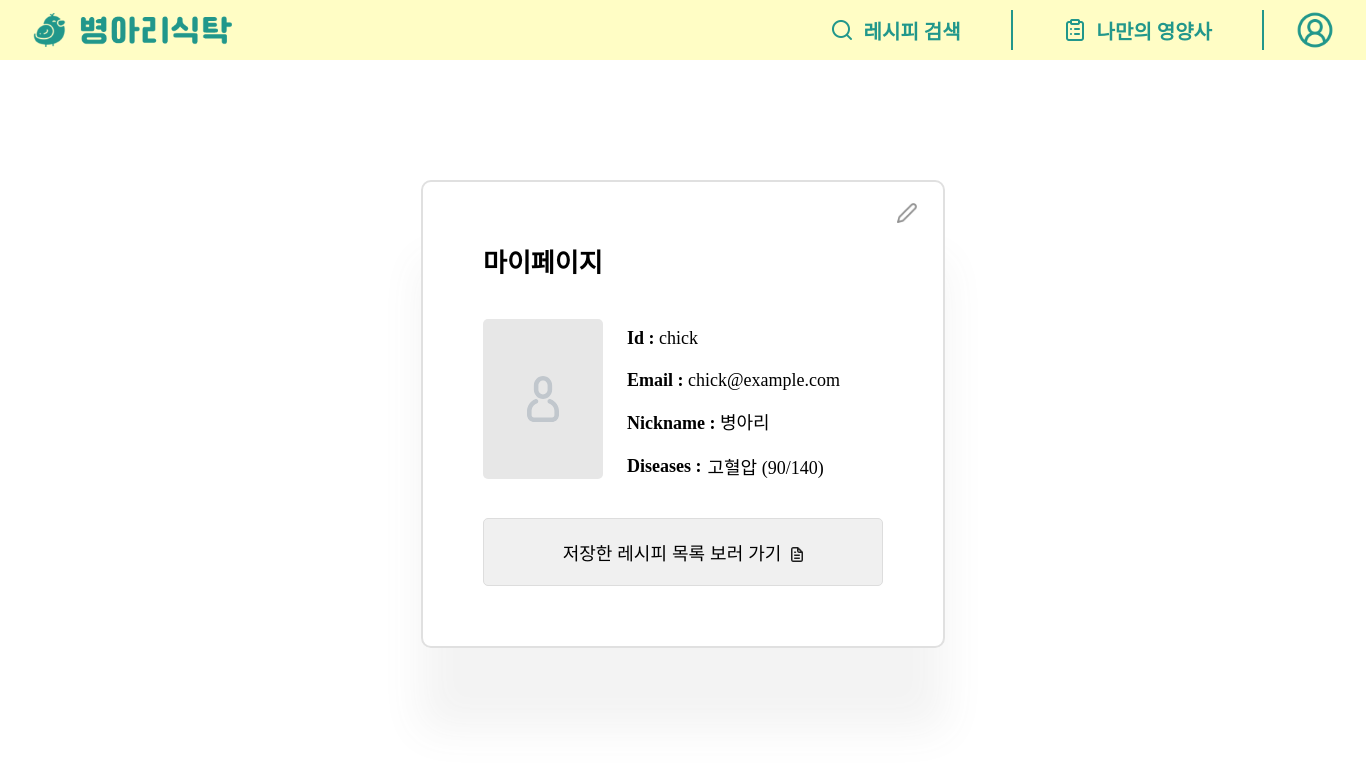
마이페이지 › 정보 수정에서 닉네임을 바꾸면 마이페이지에 반영된다
This screenshot has width=1366, height=768.
Click the button with alt text "Edit": [912, 214] box x1=891 y1=202 x2=933 y2=227
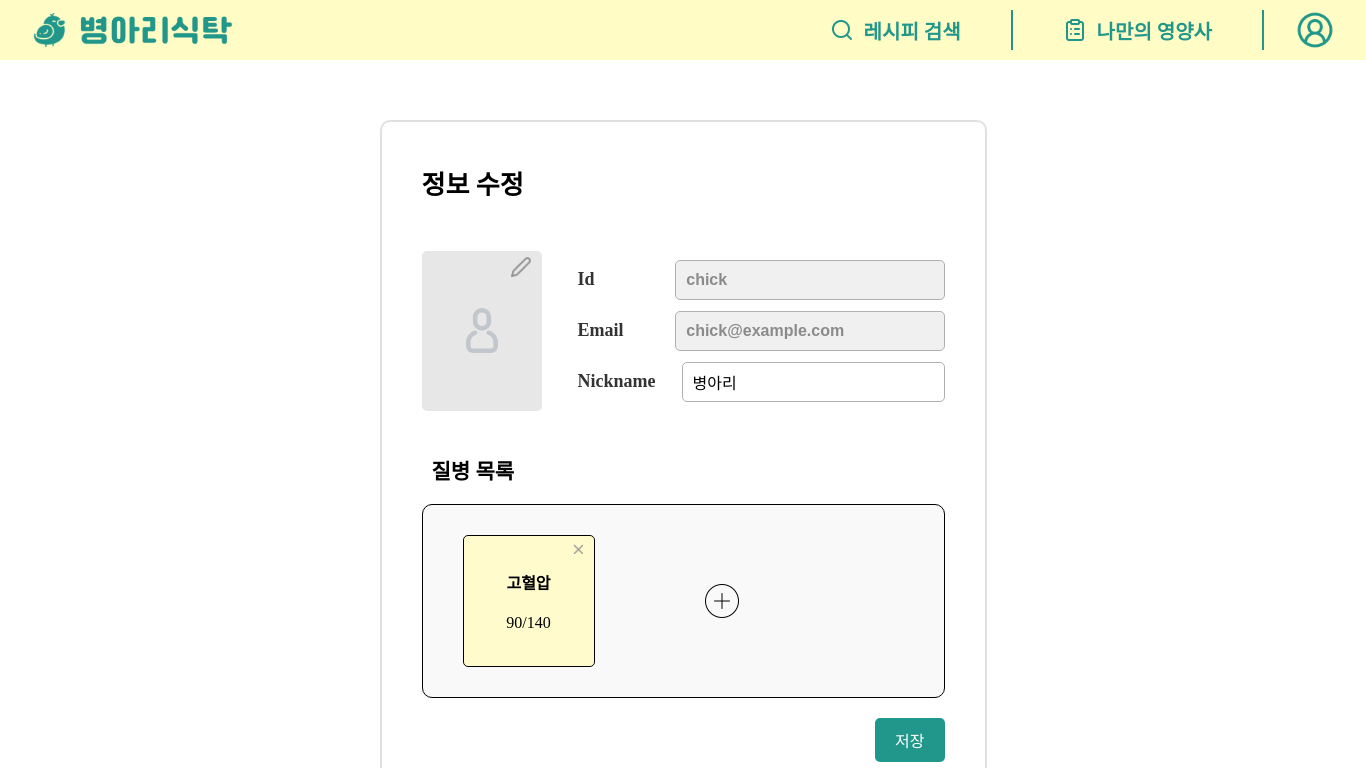
Replace the text in the field showing "병아리" next to "Nickname" with "새병아리": [813, 382] box x1=682 y1=362 x2=944 y2=402
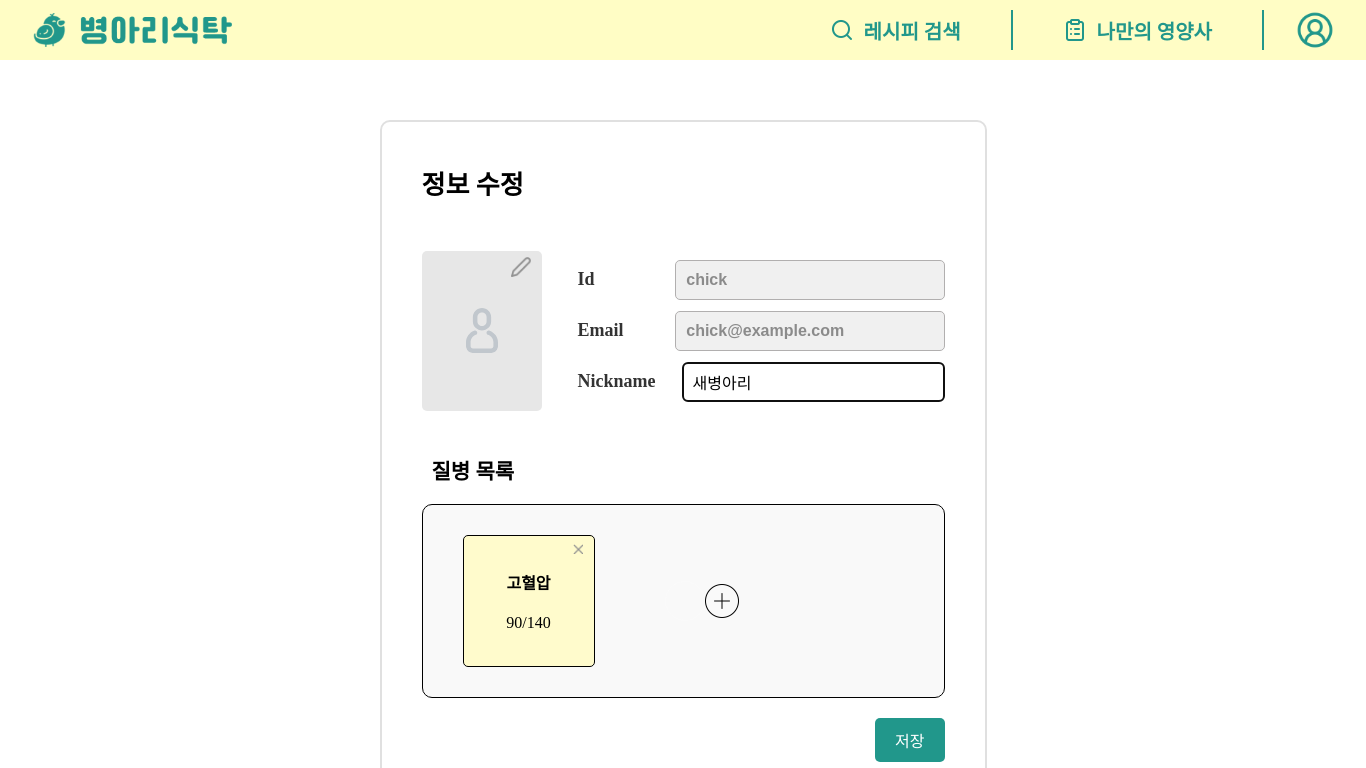
Click the button "저장": [910, 740] box x1=875 y1=718 x2=944 y2=762
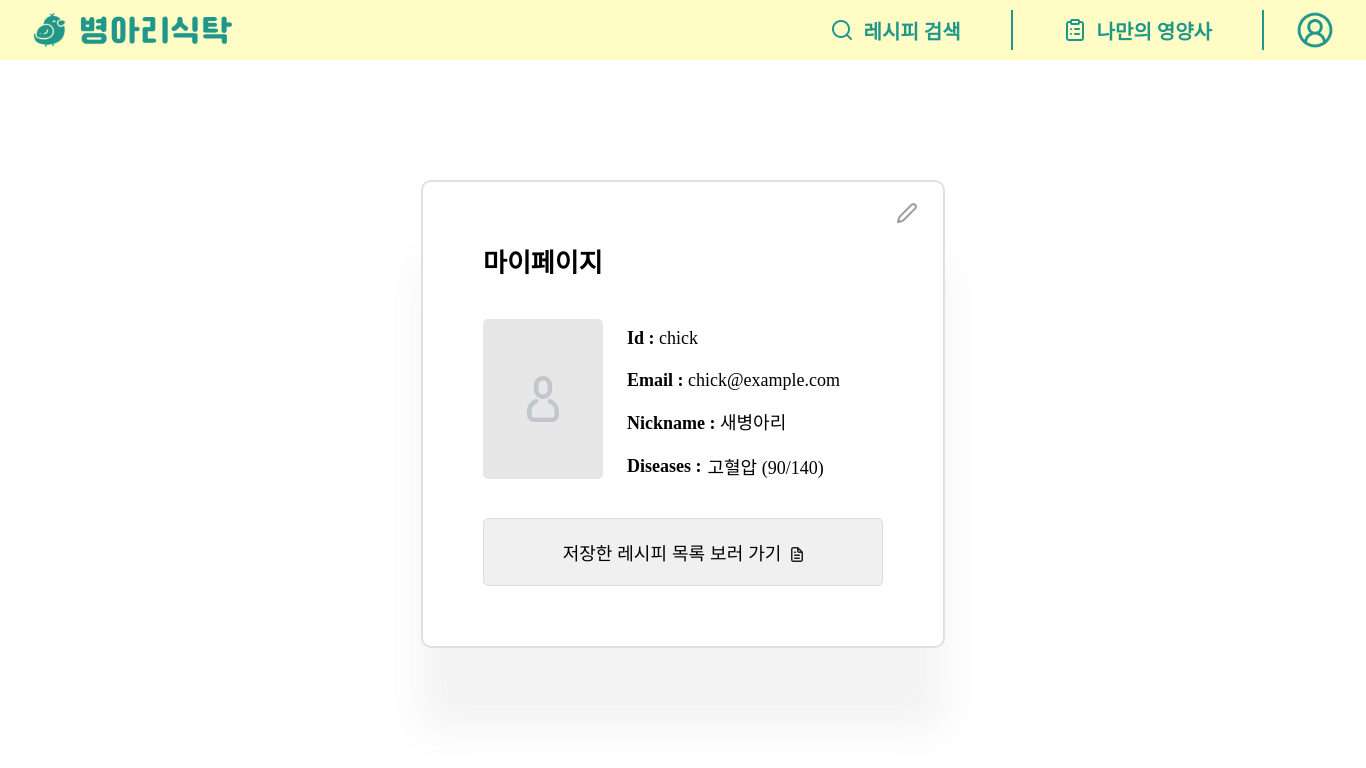
Now the text "새병아리" is shown, box x1=720 y1=413 x2=786 y2=433
